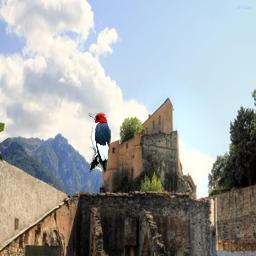Woodpecker: (89, 111, 112, 174)
